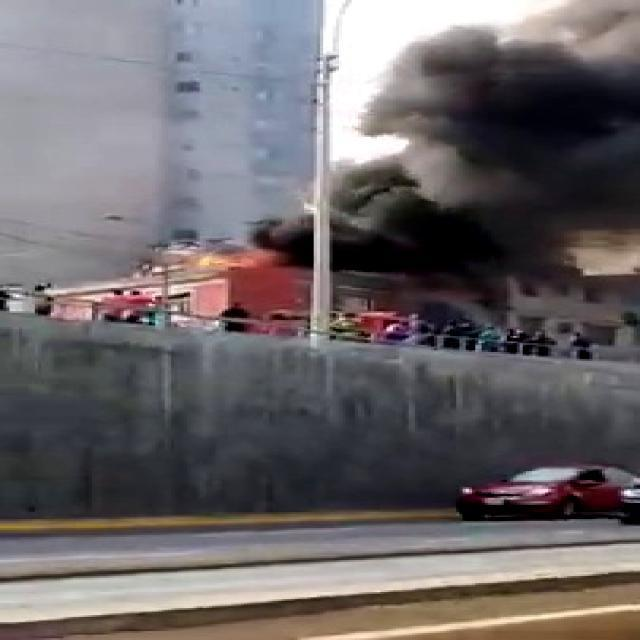Smoke: (212, 0, 640, 267)
